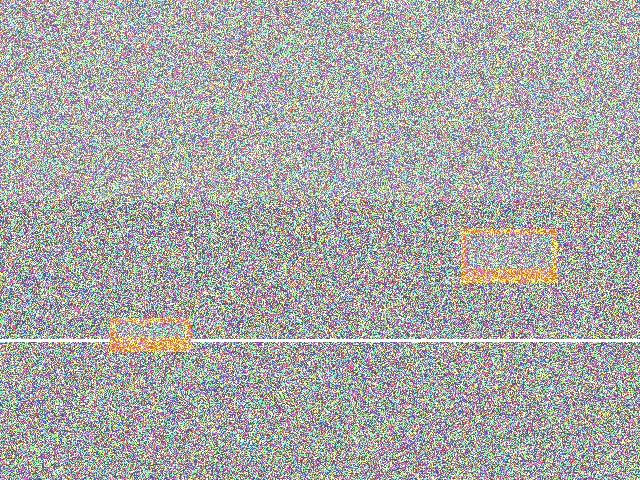car: (172, 151, 281, 258), (513, 150, 617, 213)
